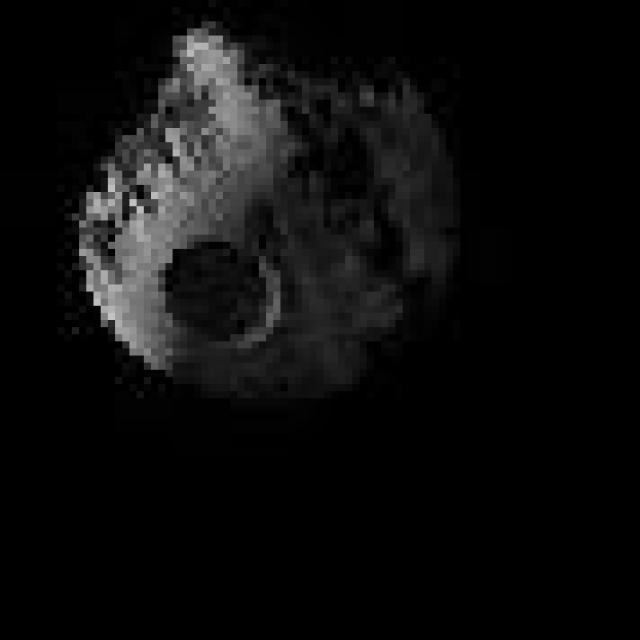Death Star: (58, 15, 468, 412)
